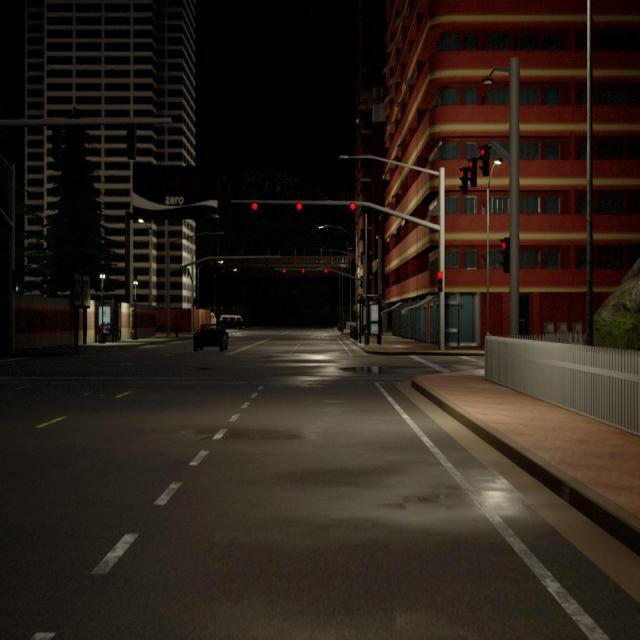Pedestrian: (175, 324, 179, 337)
Vehicle: (193, 324, 230, 352), (220, 315, 243, 329), (210, 312, 217, 324)
traffic_light: (450, 143, 497, 198), (496, 235, 514, 282), (437, 272, 442, 292), (252, 202, 258, 211), (350, 202, 356, 211), (297, 202, 302, 211), (15, 286, 19, 292), (324, 268, 328, 274), (282, 269, 286, 274), (302, 269, 305, 274)
